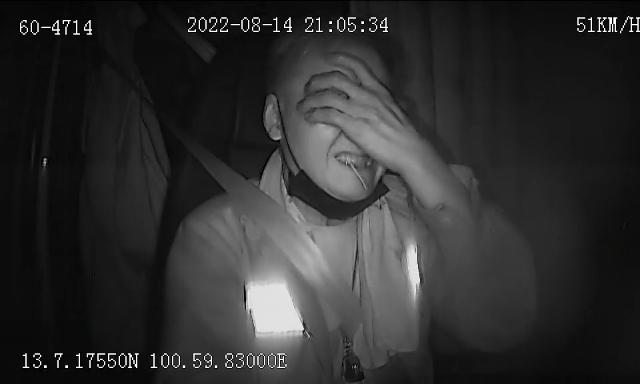Seatbelt: (185, 140, 368, 344)
